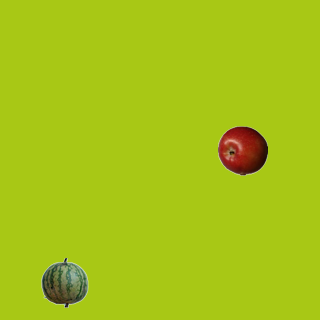Apple Braeburn: (217, 125, 267, 175)
Watermelon: (39, 257, 89, 307)
